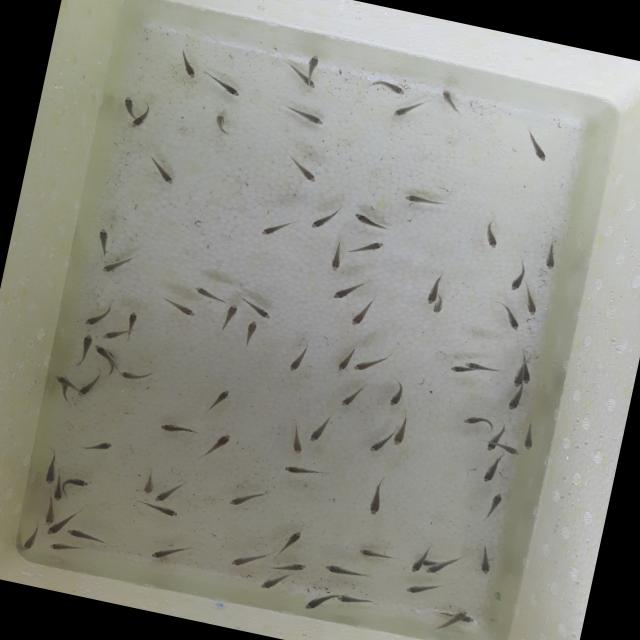fingerling: (274, 100, 331, 130), (280, 151, 324, 186), (518, 124, 556, 164), (320, 557, 376, 584), (225, 482, 272, 514), (201, 424, 237, 464), (396, 188, 451, 214), (146, 538, 192, 568), (306, 200, 344, 236), (198, 69, 245, 98), (362, 473, 391, 520), (304, 408, 336, 449), (487, 300, 525, 334), (142, 154, 180, 188), (278, 460, 332, 483), (134, 497, 185, 521), (200, 383, 232, 421), (533, 232, 563, 272), (346, 233, 386, 263), (170, 44, 203, 80), (352, 347, 390, 378), (346, 210, 393, 235), (362, 73, 407, 98), (80, 298, 115, 330), (226, 544, 266, 572), (276, 524, 307, 560), (400, 576, 444, 601), (152, 475, 186, 507), (352, 542, 397, 566), (156, 294, 198, 319), (284, 339, 312, 376), (476, 218, 506, 252), (300, 588, 336, 616), (78, 432, 115, 459), (60, 473, 92, 504), (256, 215, 292, 242), (64, 524, 108, 546), (154, 417, 200, 438), (268, 554, 308, 578), (328, 278, 362, 306), (207, 106, 236, 138), (39, 445, 62, 485), (480, 488, 506, 523), (76, 366, 102, 401), (390, 414, 415, 450), (472, 541, 497, 577), (436, 86, 465, 117), (505, 262, 531, 296), (514, 288, 544, 317), (337, 379, 364, 411), (238, 315, 262, 350), (384, 376, 410, 408), (334, 344, 360, 376), (258, 569, 290, 595), (478, 452, 502, 486), (218, 300, 242, 334), (286, 421, 308, 458), (190, 282, 227, 304), (118, 364, 154, 386), (241, 297, 275, 320), (336, 591, 377, 610), (460, 410, 496, 431), (365, 428, 391, 456), (389, 98, 418, 123), (326, 238, 346, 274), (350, 298, 374, 328), (46, 536, 82, 556), (136, 464, 158, 496), (98, 254, 124, 280), (20, 523, 42, 553), (408, 543, 428, 575), (118, 91, 140, 120), (76, 332, 94, 366), (100, 324, 130, 344), (462, 359, 498, 375), (130, 107, 153, 132), (504, 386, 525, 413), (422, 274, 440, 304), (520, 422, 538, 452), (92, 225, 112, 252), (304, 52, 323, 76), (42, 497, 58, 525), (482, 428, 500, 452), (51, 474, 66, 502), (52, 372, 74, 388), (296, 76, 320, 90), (497, 442, 521, 456), (431, 296, 447, 316), (124, 308, 140, 328), (92, 342, 110, 358), (44, 521, 60, 538), (423, 562, 442, 576), (511, 371, 525, 388), (447, 362, 466, 374), (451, 608, 468, 620), (461, 614, 478, 626), (521, 369, 532, 386)
